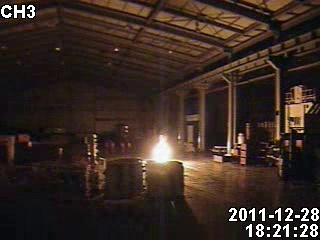fire: (149, 133, 173, 163)
